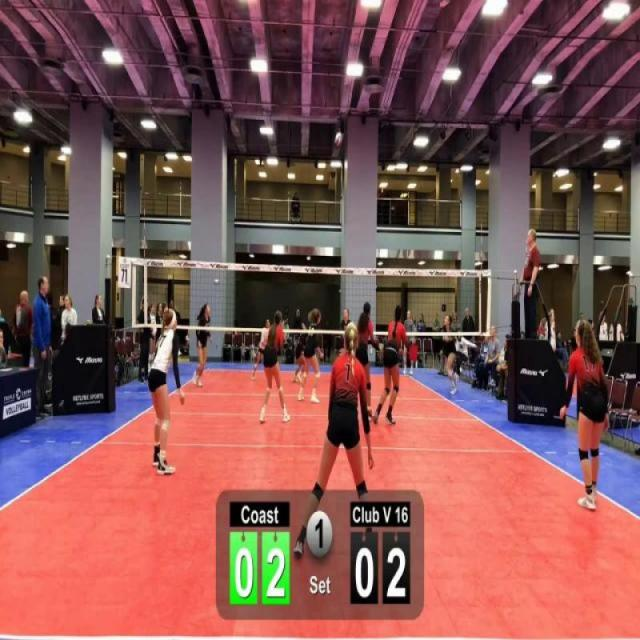volleyball: (334, 130, 344, 148)
